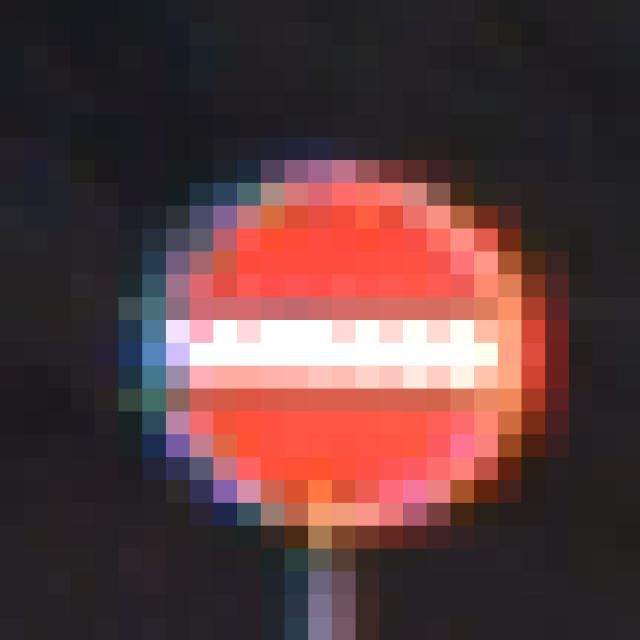No Entry: (120, 115, 523, 527)
